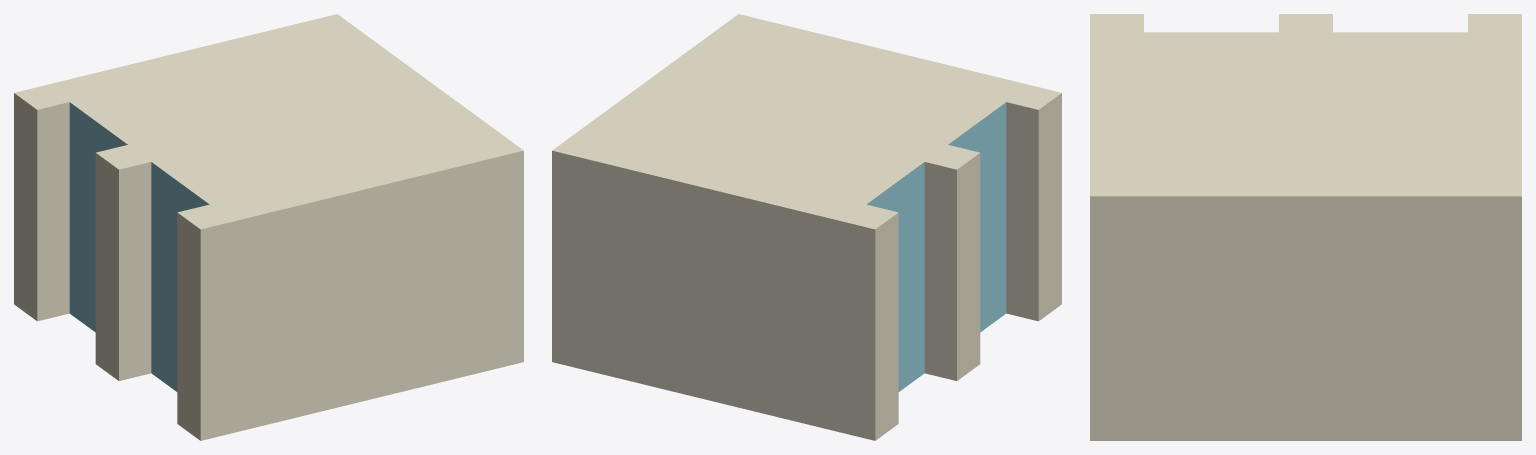
The model's file is modularBuildings_021.fbx.
3 renders of one model, left to right at view 1: azimuth 30°, elevation 25°; view 2: azimuth 150°, elevation 25°; view 3: azimuth 270°, elevation 25°, orthographic. The views are drawn at different scales.
Visible parts, largest first — view 1: Brick.Brick.Mesh1 Group1 Model, Glass.Glass; view 2: Brick.Brick.Mesh1 Group1 Model, Glass.Glass; view 3: Brick.Brick.Mesh1 Group1 Model.
Part boxes in pixels (left/top/right/bottom): Brick.Brick.Mesh1 Group1 Model: left=14, top=14, right=523, bottom=440; Glass.Glass: left=69, top=102, right=209, bottom=391; Brick.Brick.Mesh1 Group1 Model: left=552, top=14, right=1061, bottom=440; Glass.Glass: left=866, top=102, right=1006, bottom=391; Brick.Brick.Mesh1 Group1 Model: left=1090, top=14, right=1521, bottom=440.
Bounding box in the file's own units: 1 × 0.625 × 1.
